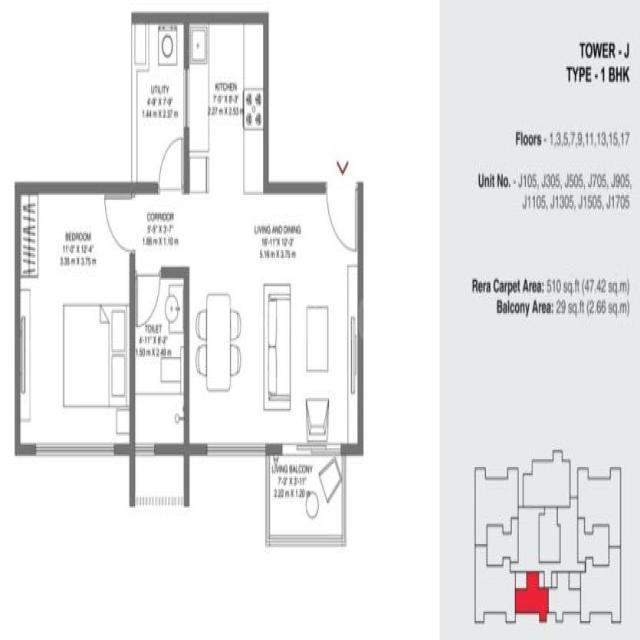Balcony-Sitout: (265, 444, 346, 547)
Bedroom with Toilet: (15, 184, 132, 451)
Dining: (193, 287, 242, 405)
Enterance-Foyer: (323, 148, 360, 260)
Kitchen: (183, 13, 268, 185)
Living: (259, 189, 363, 456)
Toilet: (129, 264, 189, 456)
Utility: (130, 14, 191, 192)
